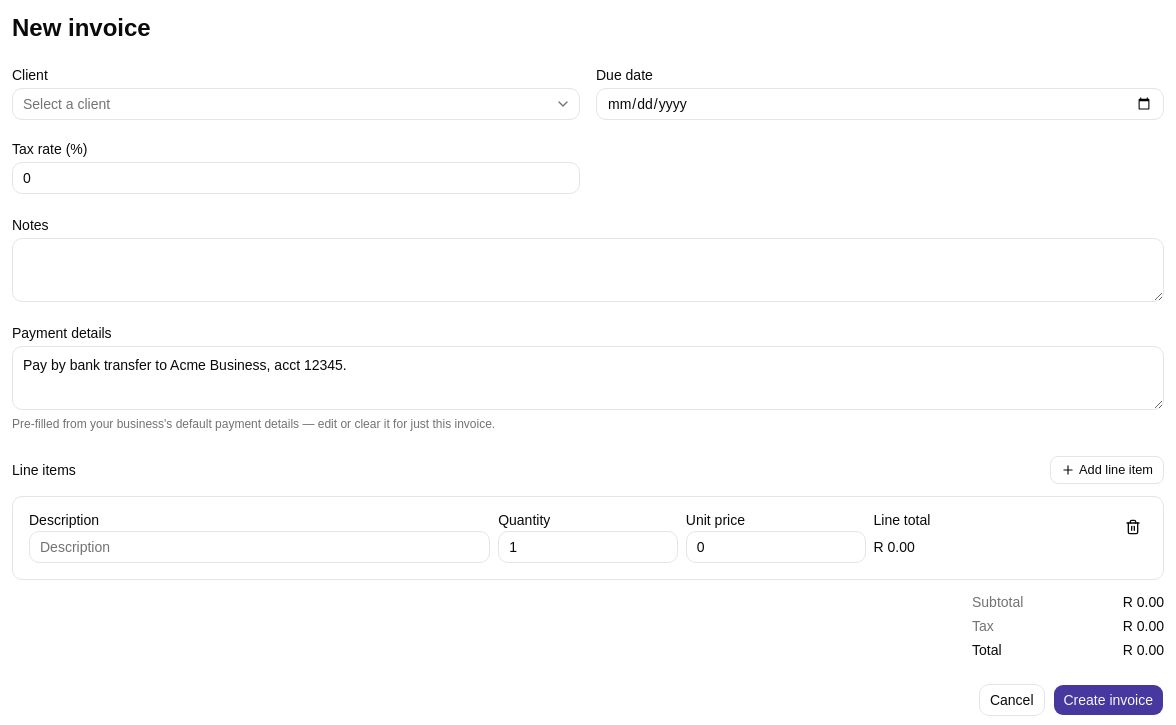
Test case: InvoiceFormPage validation (create mode) › blocks submission and shows inline errors when required fields are left empty
This screenshot has width=1176, height=725.
Note: Submit with nothing filled in at all: empty client, empty due date, empty description.
Click the button "Create invoice" at (1108, 700), box [1052, 684, 1164, 716]
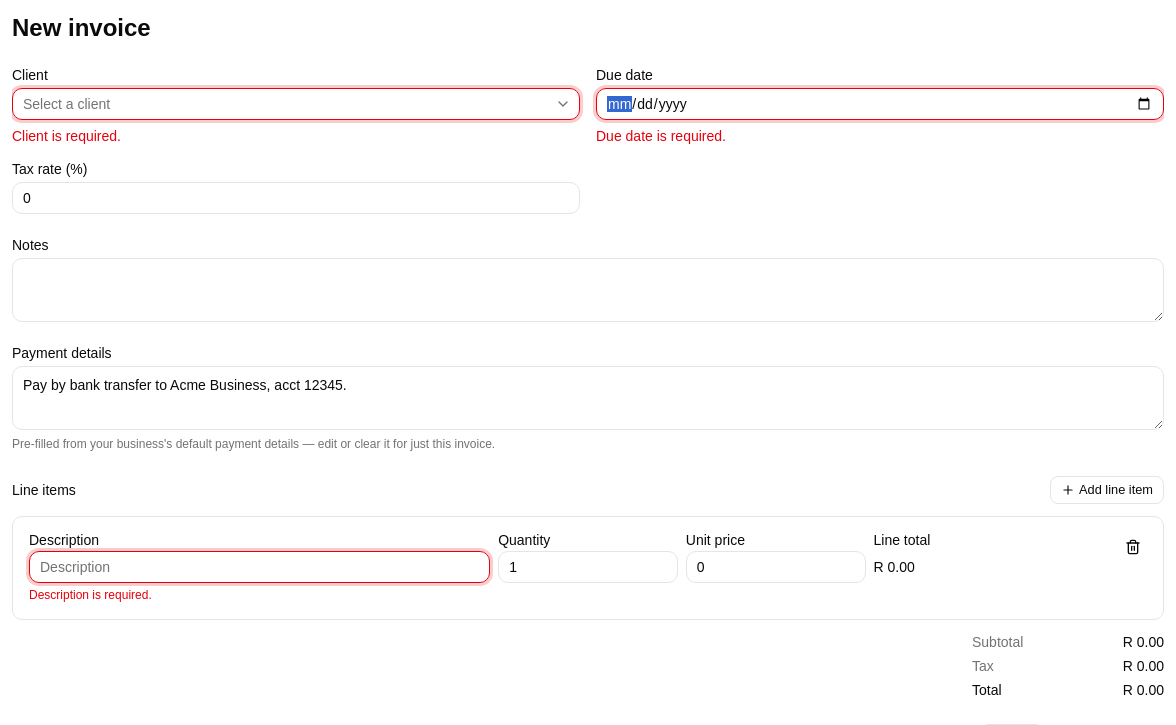
Check: the text "Client is required." is shown, box [12, 128, 121, 144]
Check: the text "Due date is required." is shown, box [596, 128, 726, 144]
Check: the text "Description is required." is shown, box [29, 588, 152, 602]
